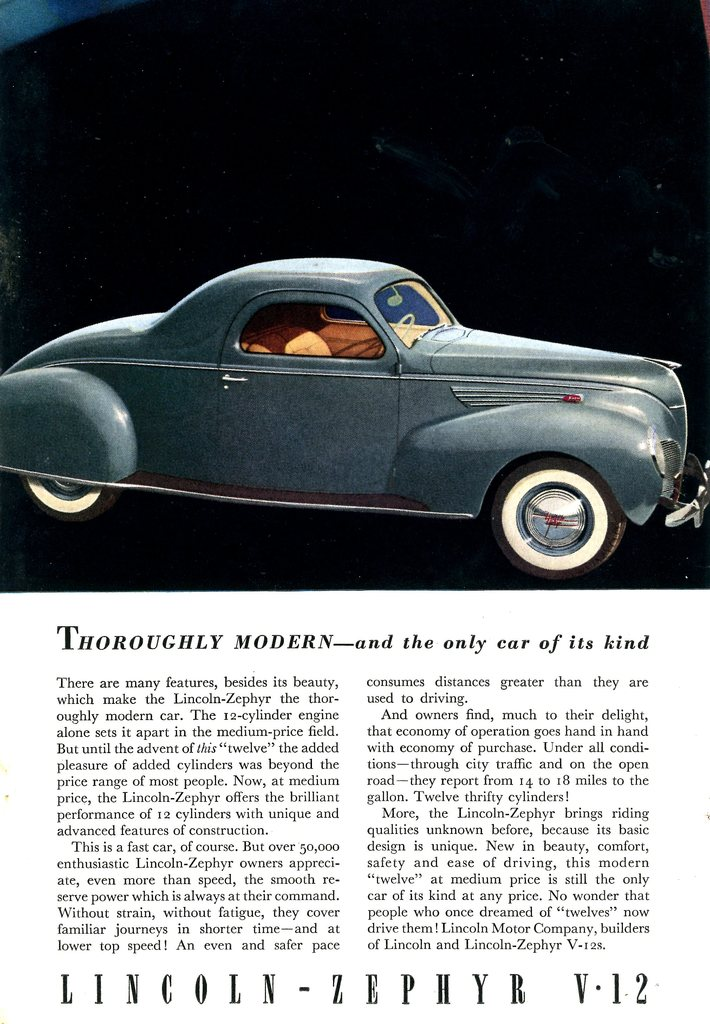Car: (7, 243, 677, 570)
